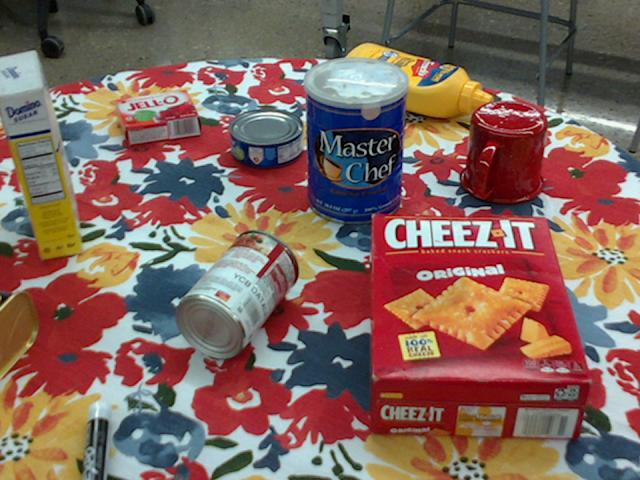cracker_box: (368, 217, 591, 439)
gelatin_box: (115, 92, 199, 147)
large_marker: (78, 400, 110, 479)
master_chef_can: (305, 57, 410, 226)
mug: (459, 102, 548, 205)
mustard_bottle: (337, 43, 492, 117)
potted_meat_can: (0, 289, 36, 374)
sugar_box: (0, 48, 82, 259)
tomato_soup_can: (174, 230, 297, 359)
tuna_fish_can: (228, 109, 303, 168)
